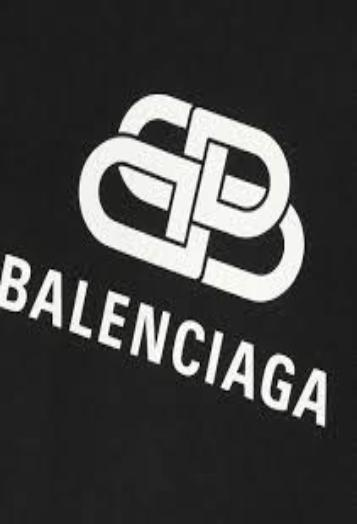BALENCIAGA: (1, 252, 326, 425), (79, 92, 304, 306)
